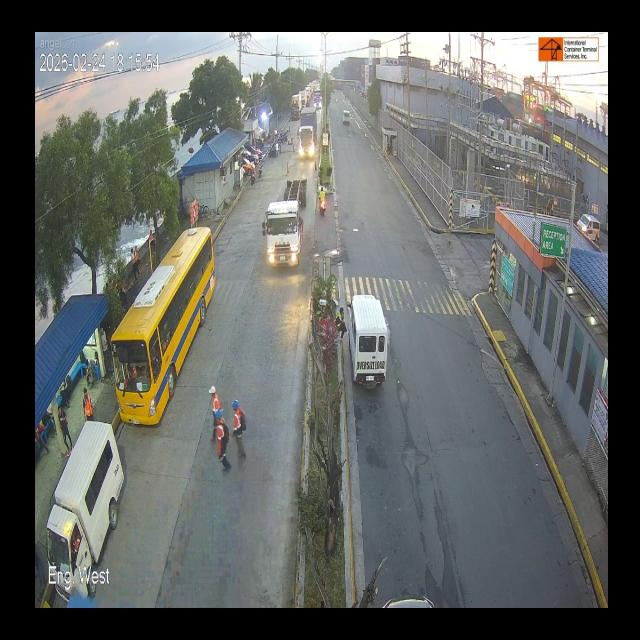bus: (122, 242, 219, 425)
car: (51, 436, 135, 574), (346, 288, 402, 381), (342, 109, 353, 128)
truck: (257, 169, 313, 277), (298, 106, 322, 164), (289, 89, 303, 123)
